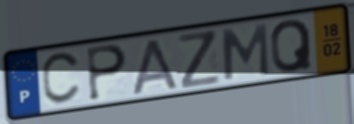A: (131, 37, 181, 97)
C: (40, 49, 84, 107)
M: (220, 21, 271, 83)
P: (85, 42, 129, 103)
Q: (269, 18, 315, 76)
Z: (176, 28, 223, 91)
